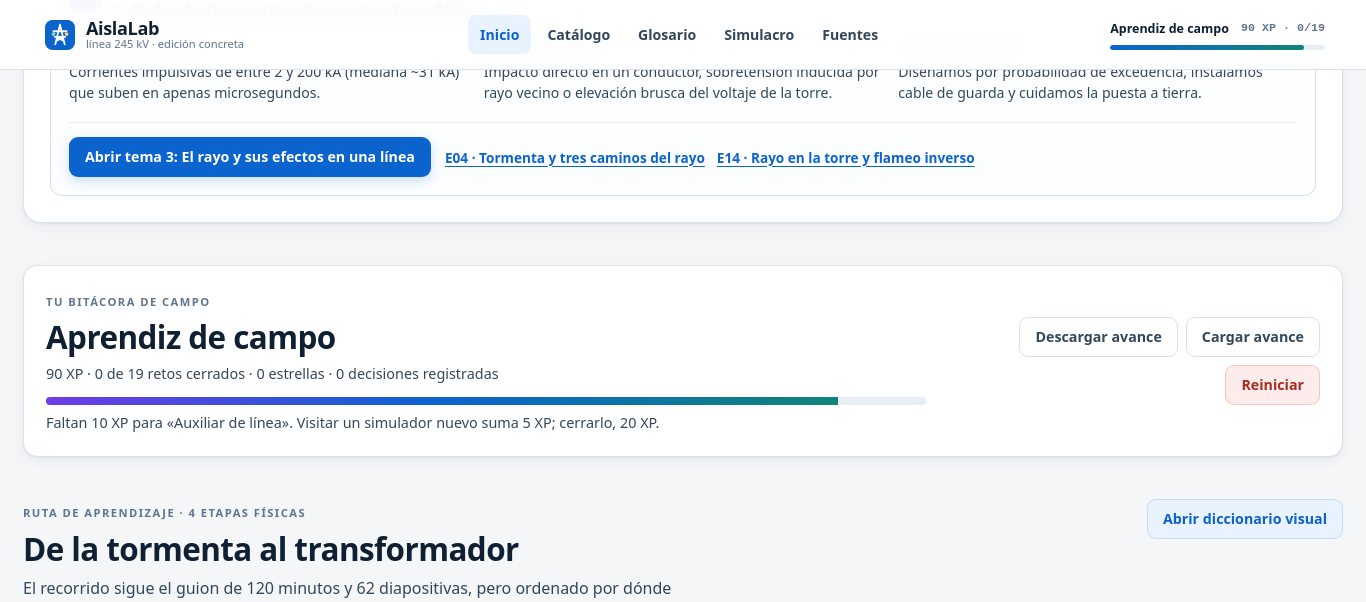
Test: simulacro, reto y progreso › reiniciar el avance pide confirmación y limpia el almacenamiento
(page scrolled)
Click the button "Reiniciar": coordinates (1273, 385) [1225,365,1320,405]
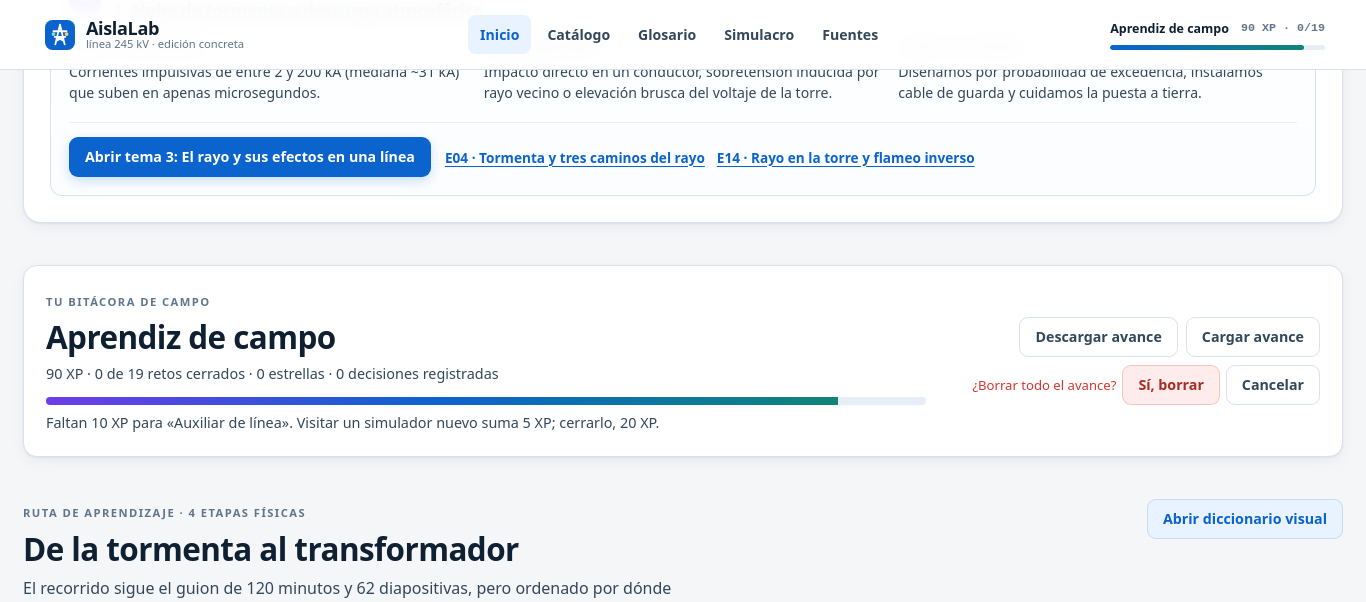
Result: the text "¿Borrar todo el avance?" is shown at [972,375,1116,395]
Click the button "Sí, borrar": coordinates (1171, 385) [1122,365,1220,405]
(page scrolled)
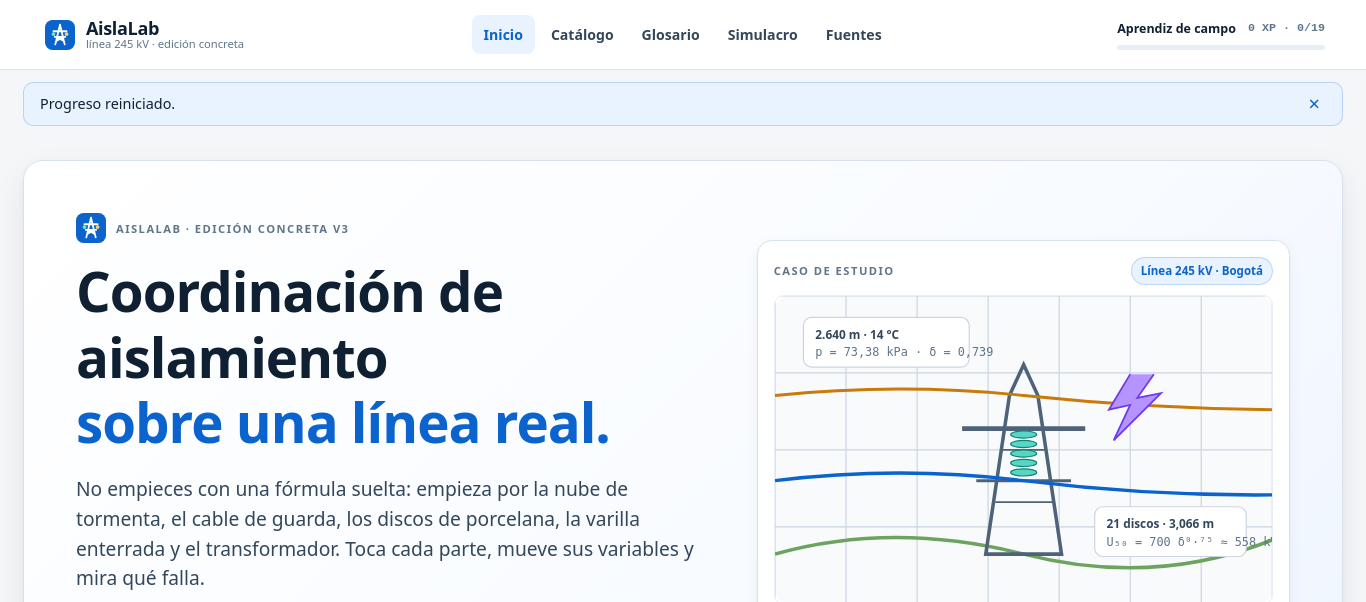
Result: the text "Progreso reiniciado." is shown at [40,93,175,115]
